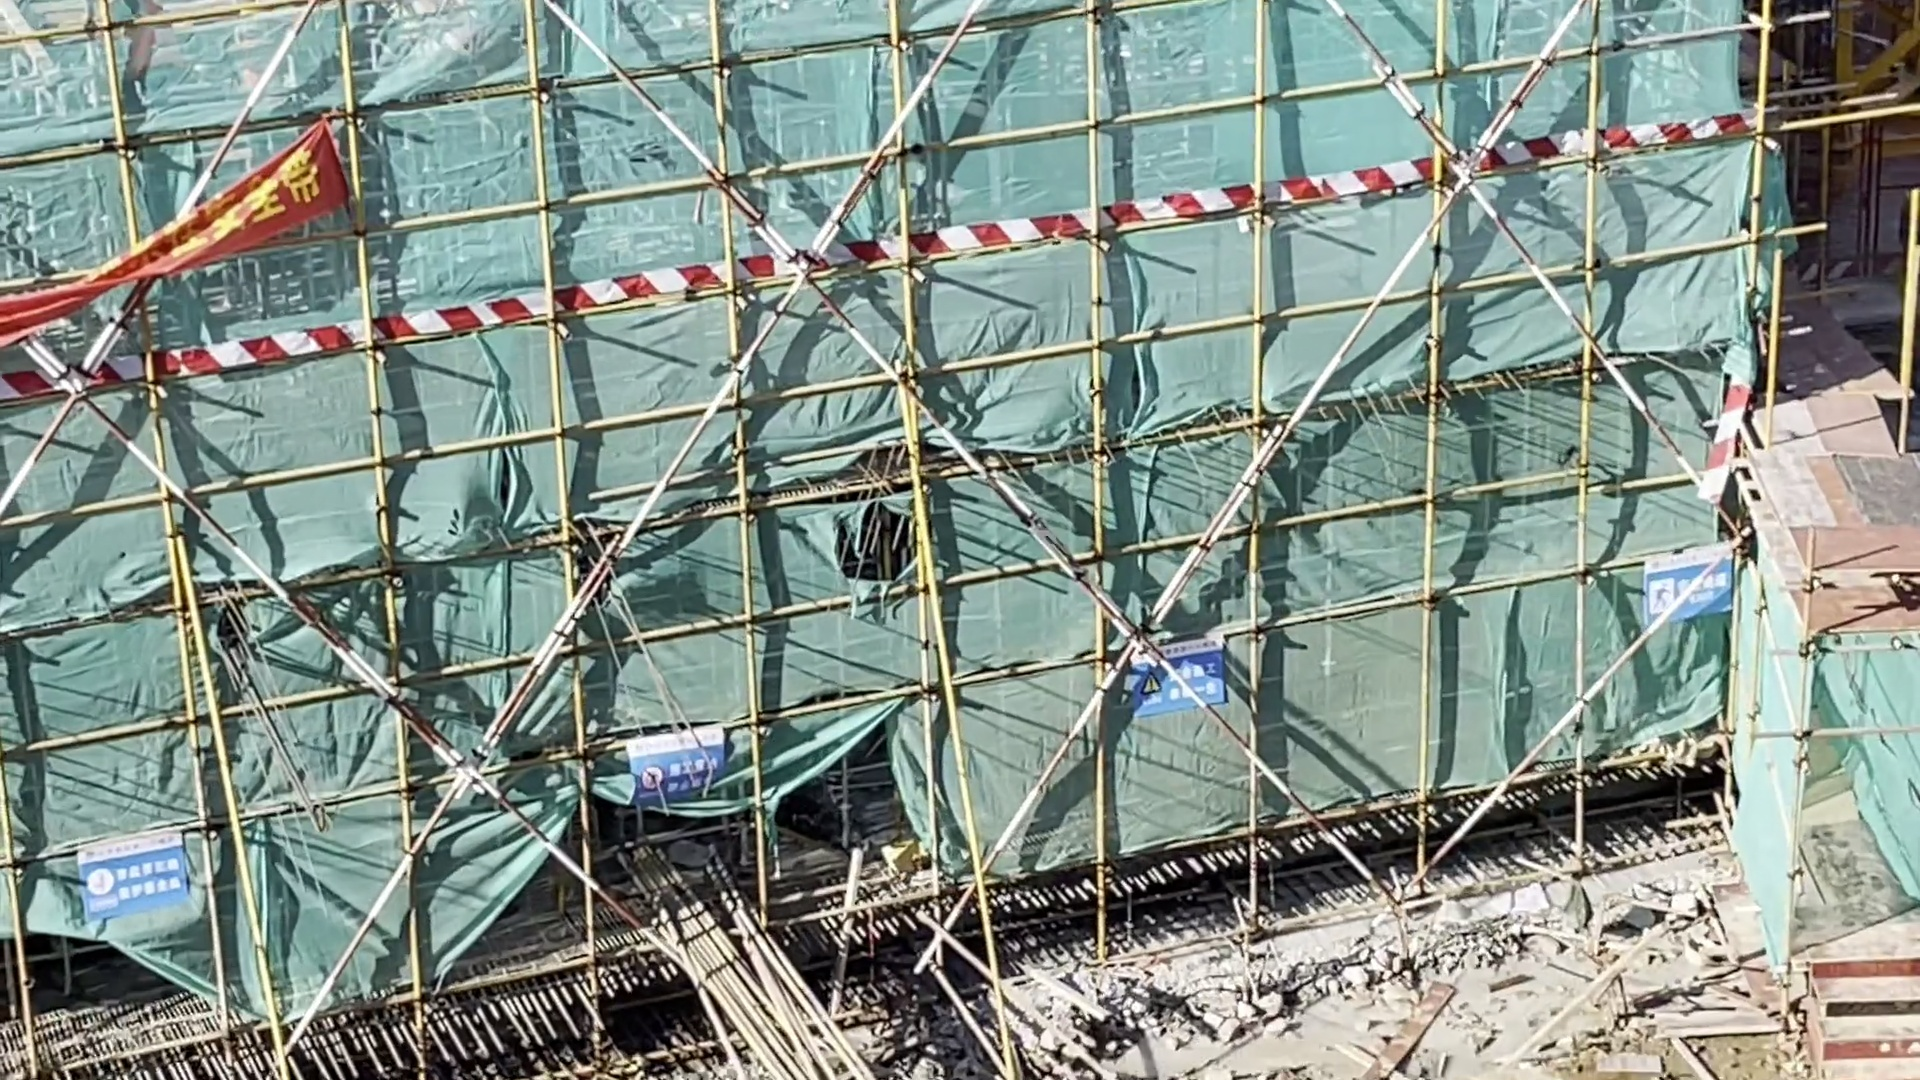slogan: (7, 116, 359, 410), (40, 814, 208, 916), (1088, 632, 1232, 727), (611, 728, 738, 820), (1650, 527, 1754, 640)
